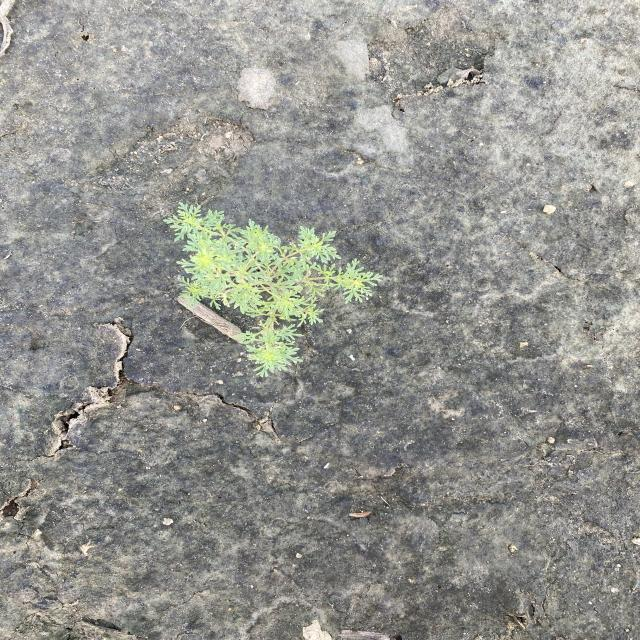Ragweed: (162, 200, 384, 380)
